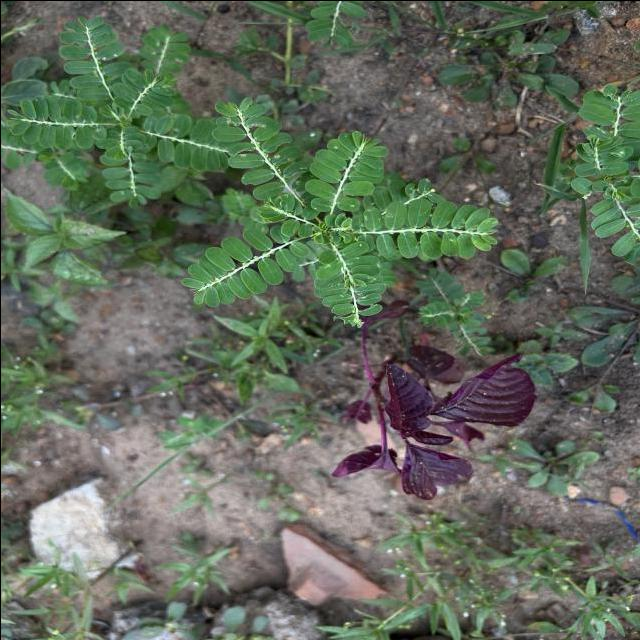Phyllanthus niruri: (208, 96, 322, 220), (178, 224, 310, 308), (364, 196, 499, 260), (306, 128, 388, 213), (55, 14, 132, 102), (311, 238, 386, 328), (0, 94, 110, 150), (138, 110, 234, 170)
